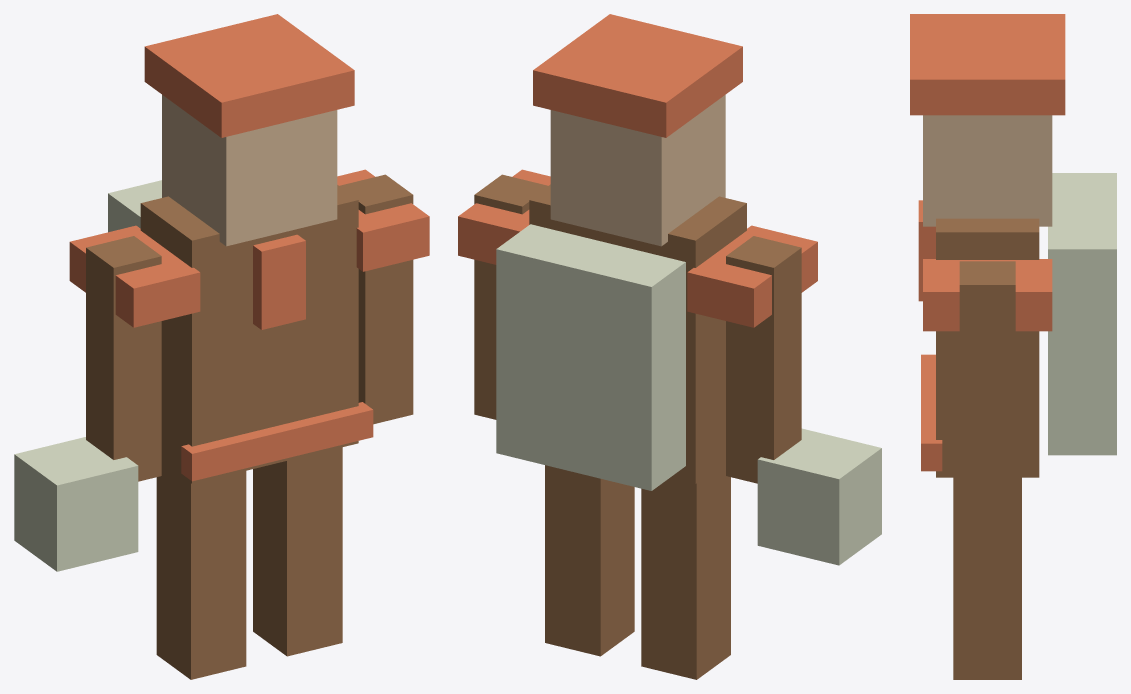
The model's file is 05_yara_runeclasp_medic_at_salvager.glb.
3 renders of one model, left to right at view 1: azimuth 30°, elevation 25°; view 2: azimuth 150°, elevation 25°; view 3: azimuth 270°, elevation 25°, orthographic.
Visible parts, largest first — view 1: Yara Runeclasp, Medic at Salvager; view 2: Yara Runeclasp, Medic at Salvager; view 3: Yara Runeclasp, Medic at Salvager.
Boxes of the visible parts, x1,y1,x2,y2 form: Yara Runeclasp, Medic at Salvager: (14,14,429,679); Yara Runeclasp, Medic at Salvager: (458,14,881,679); Yara Runeclasp, Medic at Salvager: (910,14,1116,679).
Size of the model in its own units: 0.9883 by 1.52 by 0.4768.
